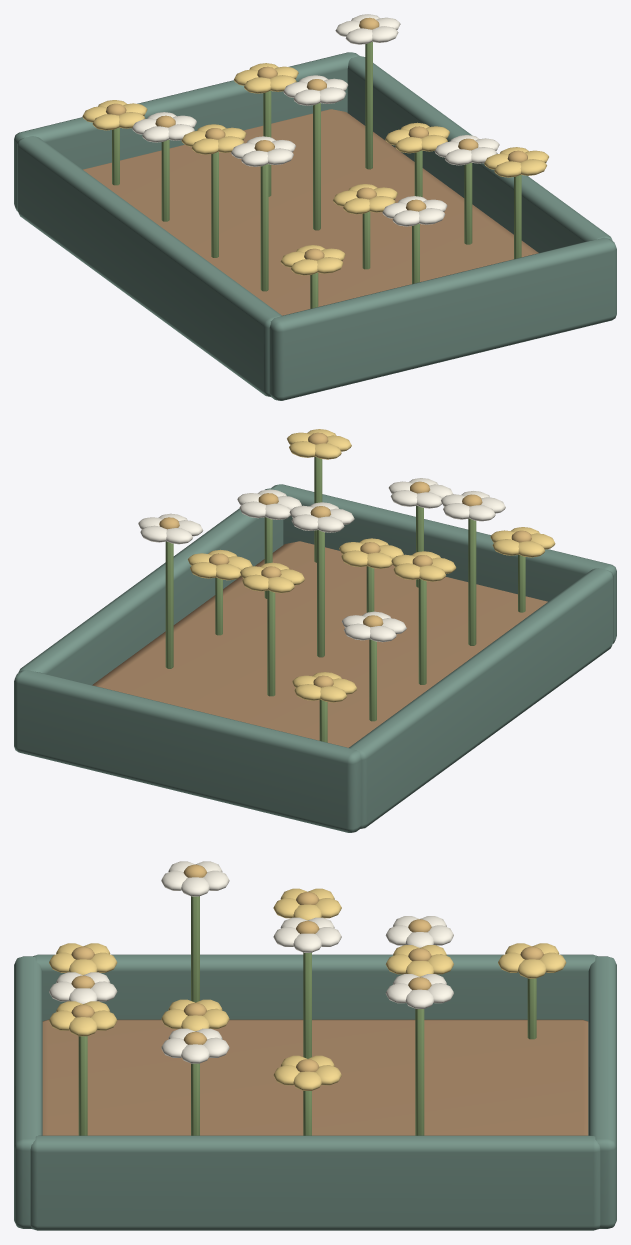
File: Garden.fbx
3 renders of one model, top to bottom at view 1: azimuth 30°, elevation 25°; view 2: azimuth 150°, elevation 25°; view 3: azimuth 270°, elevation 25°, orthographic. The views are drawn at different scales.
Parts seen in each view (by area): view 1: Seaweed.004, Wood.006, Flower.001, Leaf.005, Linen.007, Brass.004; view 2: Seaweed.004, Wood.006, Flower.001, Leaf.005, Linen.007, Brass.004; view 3: Seaweed.004, Wood.006, Flower.001, Linen.007, Leaf.005, Brass.004.
Part boxes in pixels (bbox=[...]): Seaweed.004: bbox=[14, 52, 616, 400]; Wood.006: bbox=[83, 109, 538, 315]; Flower.001: bbox=[82, 63, 548, 275]; Leaf.005: bbox=[112, 42, 521, 308]; Linen.007: bbox=[132, 14, 499, 226]; Brass.004: bbox=[106, 17, 527, 260]; Seaweed.004: bbox=[14, 484, 616, 832]; Wood.006: bbox=[92, 541, 547, 747]; Flower.001: bbox=[187, 429, 555, 702]; Leaf.005: bbox=[165, 456, 525, 742]; Linen.007: bbox=[138, 478, 505, 642]; Brass.004: bbox=[159, 432, 531, 687]; Seaweed.004: bbox=[14, 954, 616, 1230]; Wood.006: bbox=[42, 1019, 588, 1135]; Flower.001: bbox=[49, 888, 566, 1090]; Linen.007: bbox=[49, 861, 453, 1063]; Leaf.005: bbox=[78, 896, 536, 1135]; Brass.004: bbox=[71, 864, 543, 1071].
Bounding box in the file's own units: 175 × 92.55 × 231.
